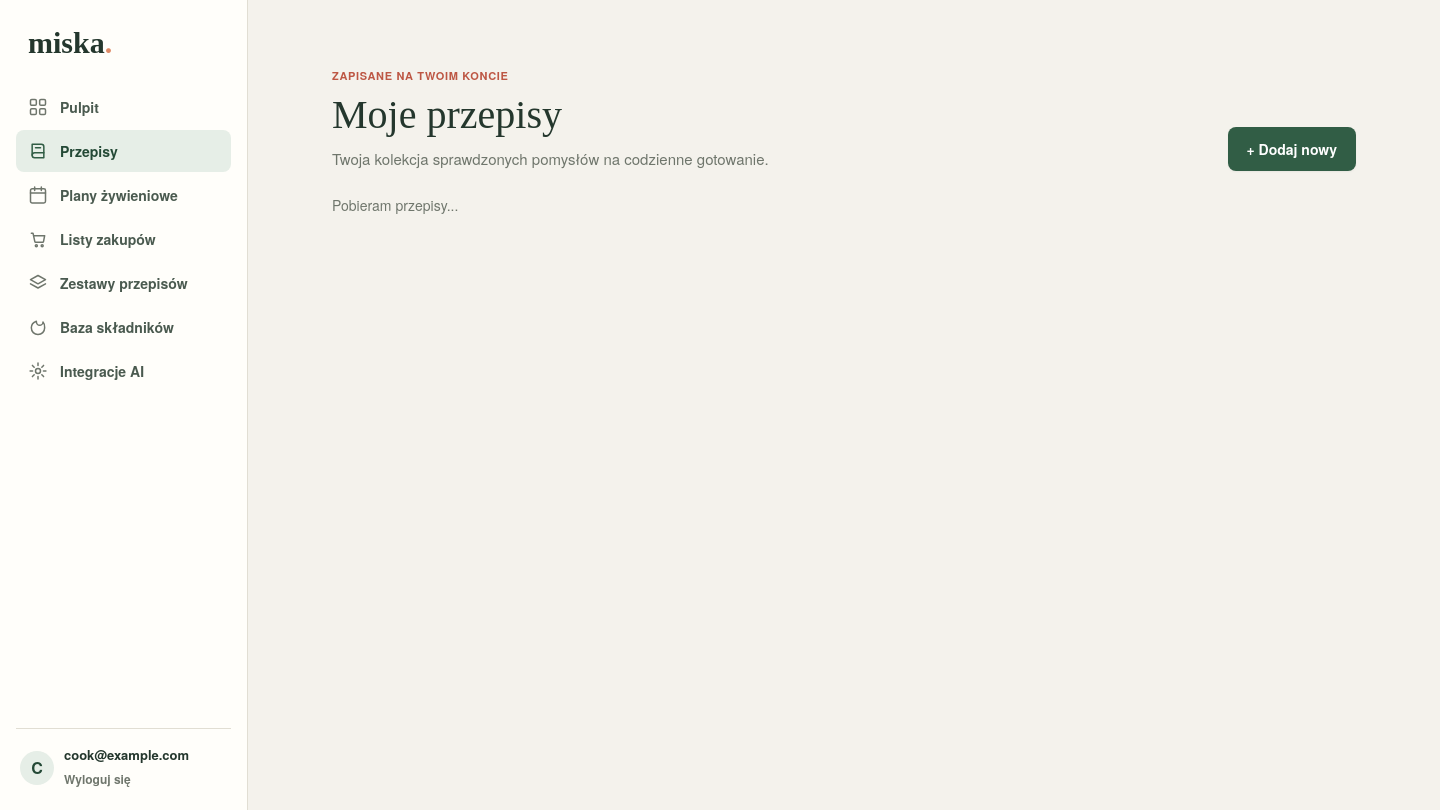
Scenario: account access screen › opens AI integration settings from the signed-in view
This screenshot has width=1440, height=810.
Expected: the heading "Moje przepisy" is shown, [332,92,562,137]
Step 1. Click the link "Integracje AI" → click(86, 371), box [28,361,144,381]
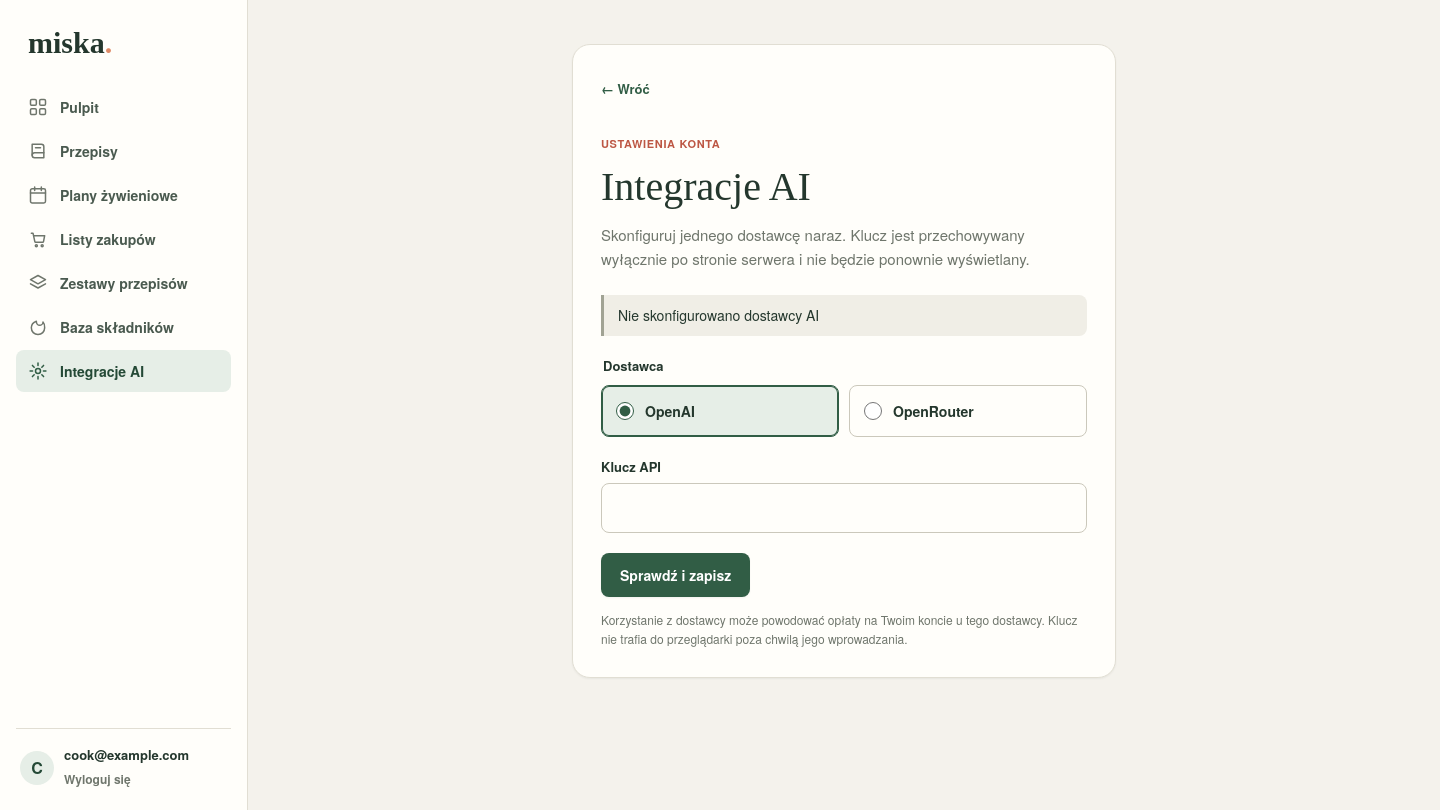
Result: the heading "Integracje AI" is shown at [601,164,811,209]
Result: the text "Nie skonfigurowano dostawcy AI" is shown at [601,295,1087,336]
Step 2. Click the button "← Wróć" → click(625, 88), box [593,73,658,104]
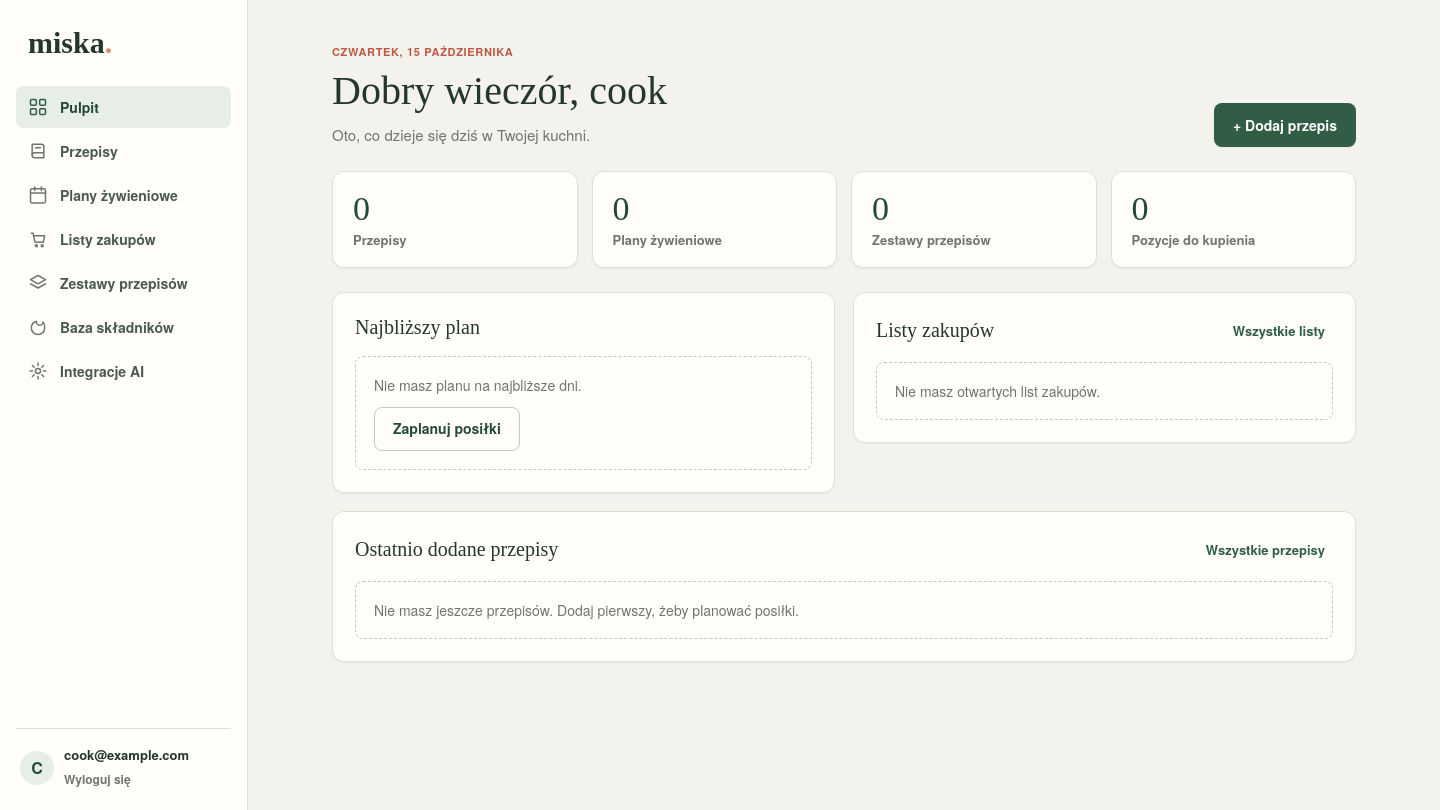
Result: the heading "Dobry wieczór, cook" is shown at [332,69,667,113]
